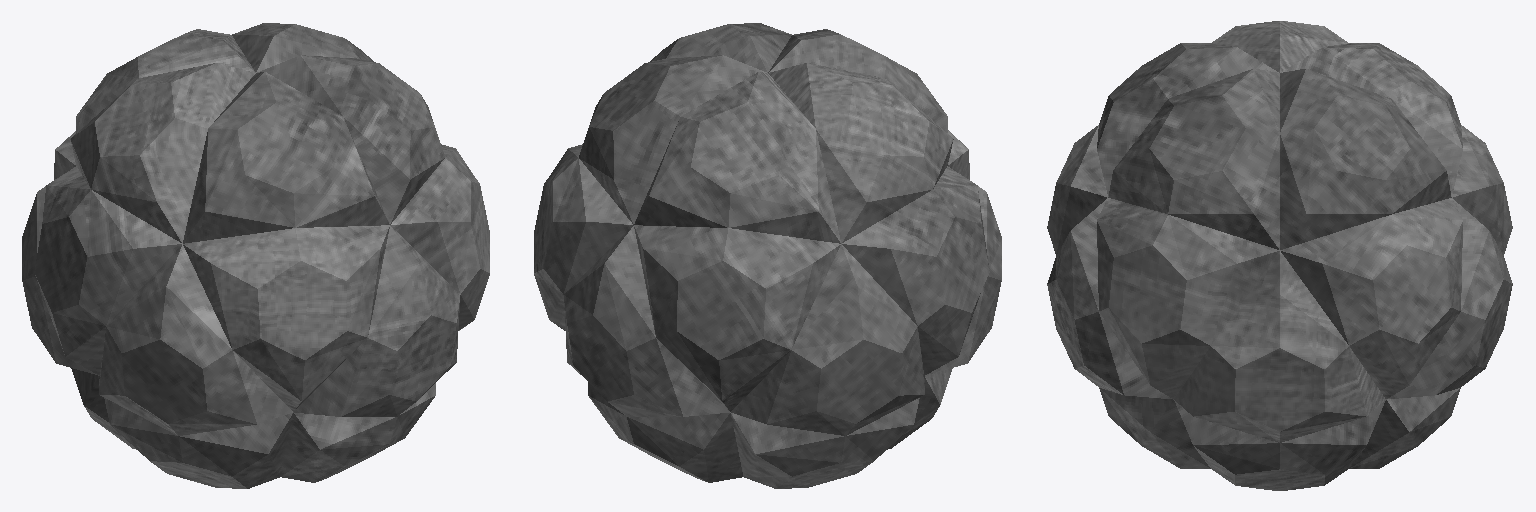
The picture shows the model from 3 angles: view 1: azimuth 30°, elevation 25°; view 2: azimuth 150°, elevation 25°; view 3: azimuth 270°, elevation 25°; orthographic projection.
Bounding box in the file's own units: 3.47 × 3.3 × 3.43.
Materials: 1 (1 with a texture image).